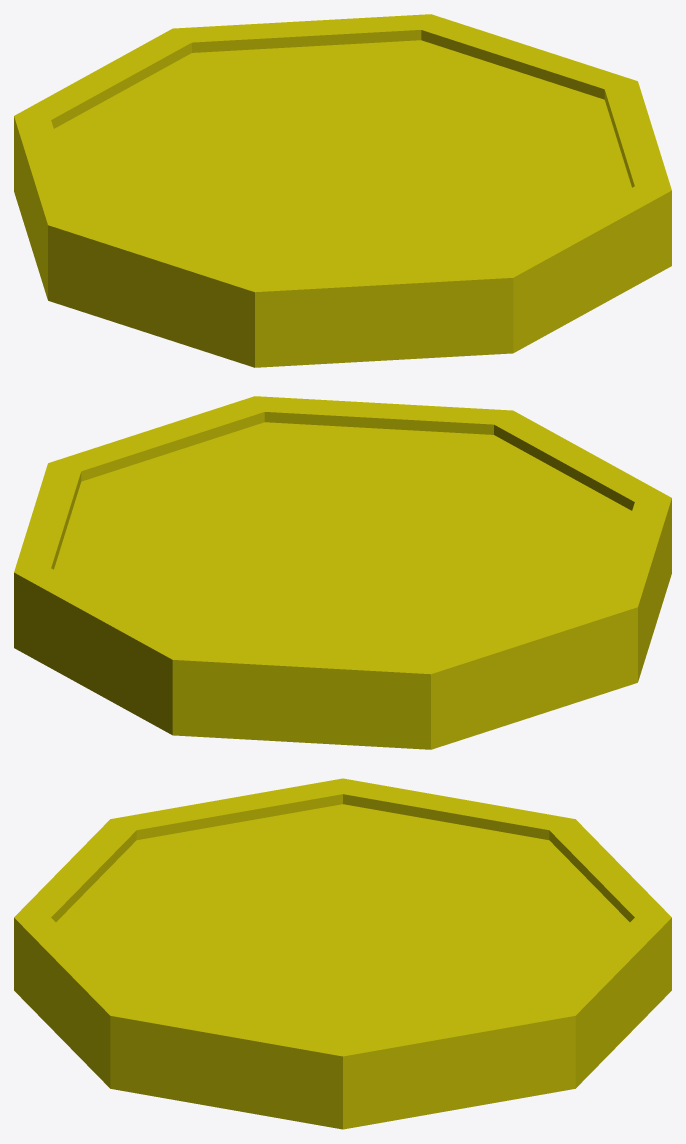
The model's file is coin.fbx.
3 renders of one model, top to bottom at view 1: azimuth 30°, elevation 25°; view 2: azimuth 150°, elevation 25°; view 3: azimuth 270°, elevation 25°, orthographic. The views are drawn at different scales.
Visible parts, largest first — view 1: Cylinder; view 2: Cylinder; view 3: Cylinder.
Boxes of the visible parts, x1,y1,x2,y2 form: Cylinder: [14, 14, 671, 367]; Cylinder: [14, 396, 671, 749]; Cylinder: [14, 778, 671, 1129].
Bounding box in the file's own units: 2 × 0.2449 × 2.
